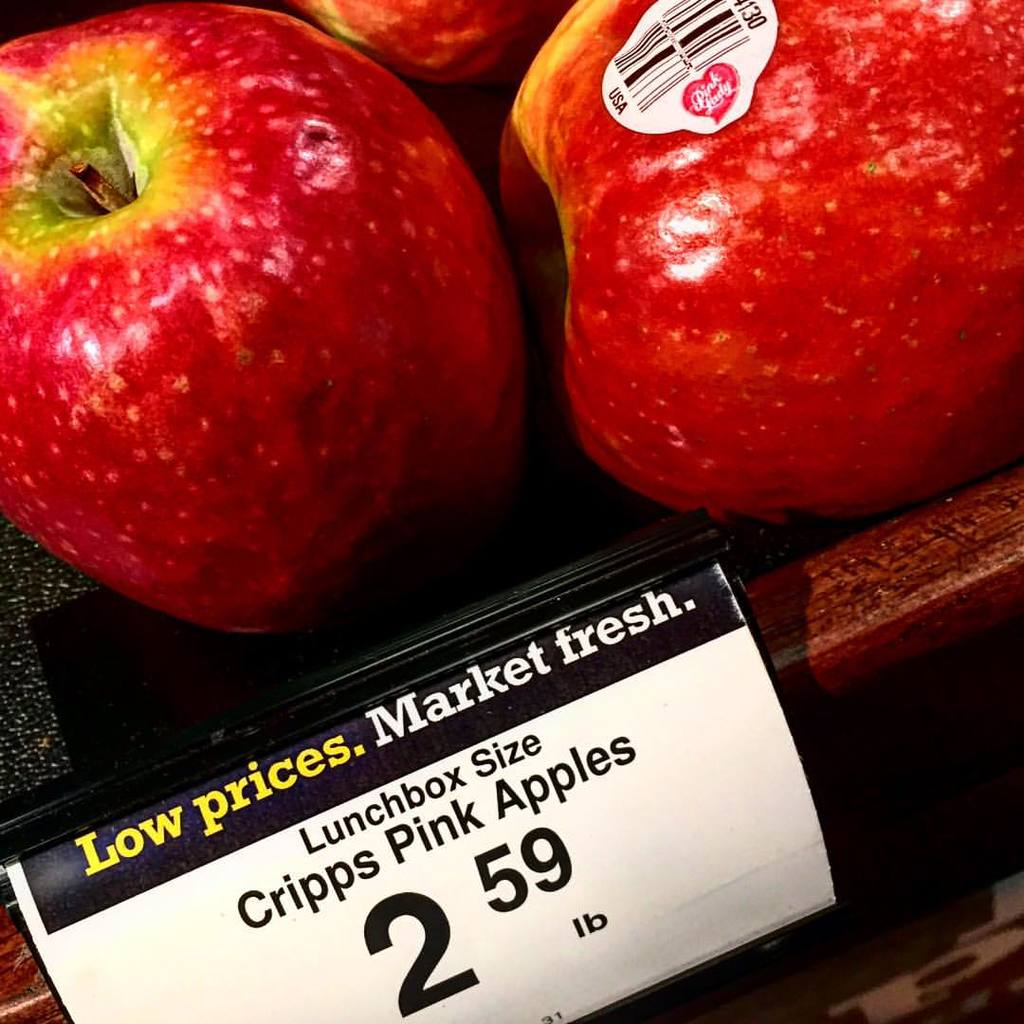Apple: (0, 0, 525, 637), (490, 0, 1023, 528), (300, 0, 566, 89)
